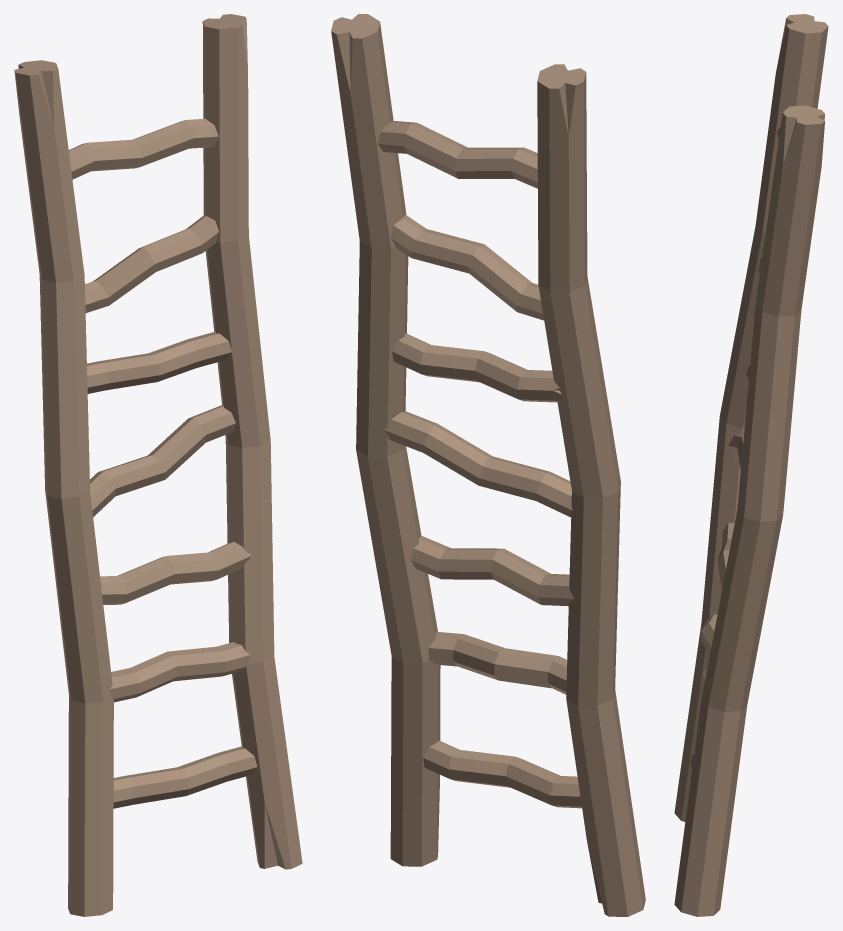
File: LowPolyLadder.fbx
3 renders of one model, left to right at view 1: azimuth 30°, elevation 25°; view 2: azimuth 150°, elevation 25°; view 3: azimuth 270°, elevation 25°, orthographic. The views are drawn at different scales.
Visible parts, largest first — view 1: pCylinder2, pCylinder3, pCylinder7, pCylinder6, pCylinder10, pCylinder5, pCylinder4, pCylinder8, pCylinder9; view 2: pCylinder2, pCylinder3, pCylinder7, pCylinder5, pCylinder8, pCylinder6, pCylinder4, pCylinder10, pCylinder9; view 3: pCylinder3, pCylinder2, pCylinder8, pCylinder9.
Boxes of the visible parts, x1,y1,x2,y2 form: pCylinder2: (14, 60, 113, 916); pCylinder3: (202, 14, 302, 869); pCylinder7: (90, 405, 235, 517); pCylinder6: (87, 332, 232, 393); pCylinder10: (113, 746, 257, 808); pCylinder5: (85, 215, 218, 312); pCylinder4: (68, 118, 218, 179); pCylinder8: (100, 542, 251, 604); pCylinder9: (110, 642, 250, 702); pCylinder2: (537, 64, 645, 916); pCylinder3: (331, 14, 440, 866); pCylinder7: (384, 411, 572, 517); pCylinder5: (390, 214, 543, 320); pCylinder8: (410, 535, 574, 606); pCylinder6: (392, 333, 562, 402); pCylinder4: (378, 120, 537, 188); pCylinder10: (423, 740, 581, 808); pCylinder9: (428, 632, 567, 694); pCylinder3: (674, 105, 824, 916); pCylinder2: (674, 14, 828, 821); pCylinder8: (717, 522, 734, 589); pCylinder9: (701, 614, 717, 686).
Bounding box in the file's own units: 2.43 × 8.13 × 1.43.
